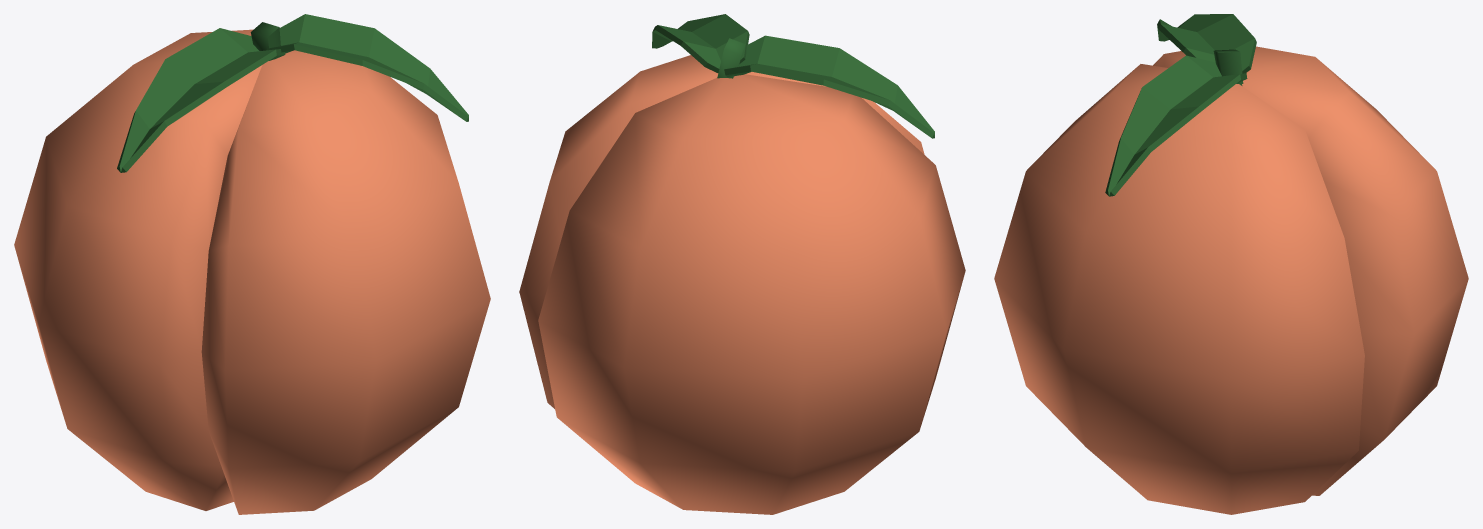
The model's file is green_09.glb.
The picture shows the model from 3 angles, left to right: view 1: azimuth 30°, elevation 25°; view 2: azimuth 150°, elevation 25°; view 3: azimuth 270°, elevation 25°; orthographic projection. The views are drawn at different scales.
Parts seen in each view (by area): view 1: green_09; view 2: green_09; view 3: green_09.
Boxes of the visible parts, x1,y1,x2,y2 form: green_09: (14,14,490,514); green_09: (519,14,965,514); green_09: (994,14,1468,514).
Bounding box in the file's own units: 0.1687 × 0.1767 × 0.1687.
Materials: 1 (1 with a texture image).
